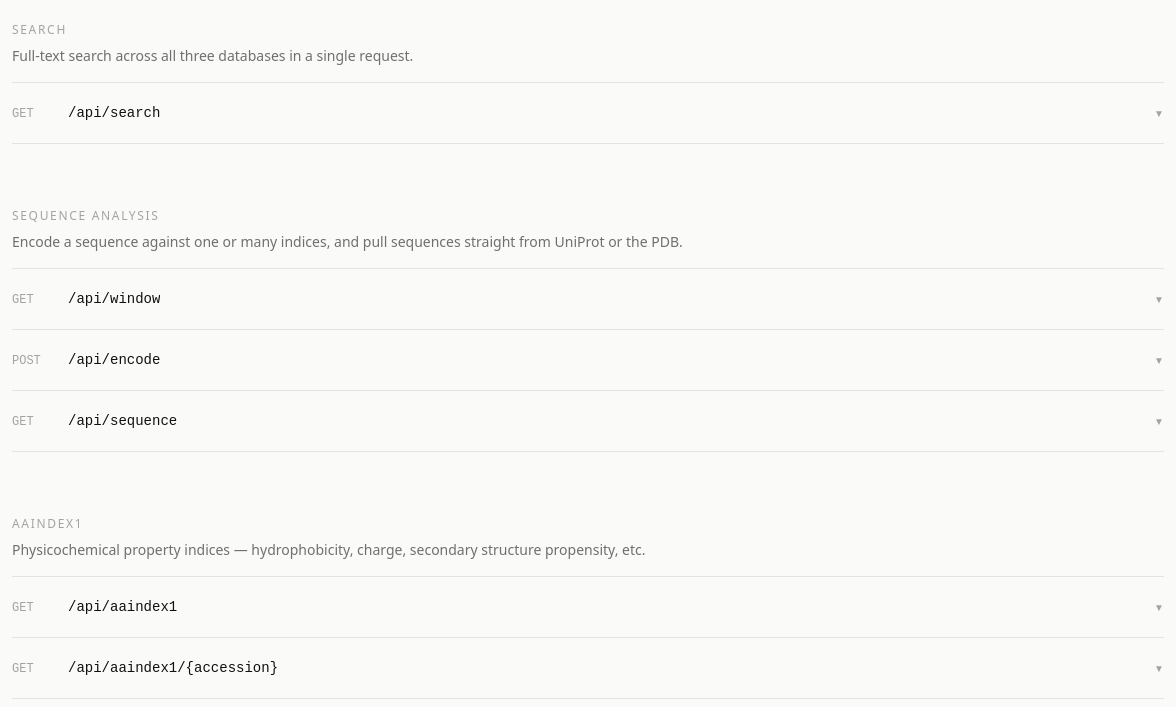
APIReference — code examples and downloads › shows the POST body in the encode example
The width and height of the screenshot is (1176, 707).
(page scrolled)
Step 1. Click the button "POST /api/encode ▼" → (114, 360), box [12,330,1164,390]
(page scrolled)
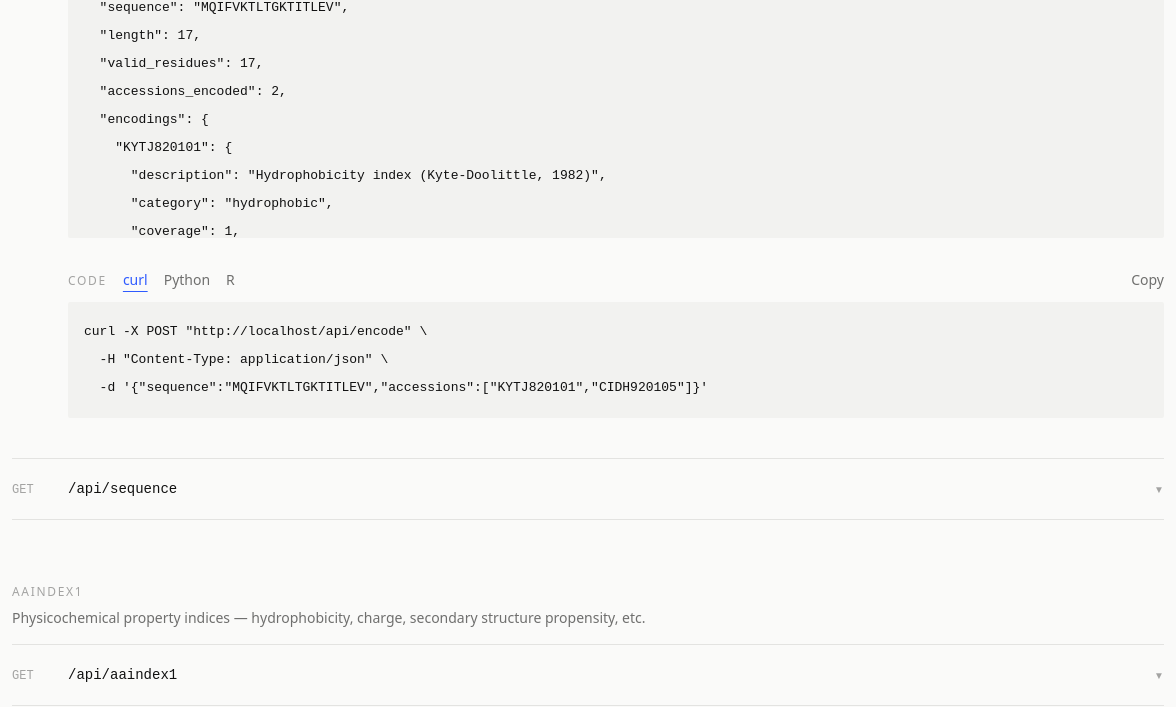
Now the text "-X POST" is shown, box [84,324,708,395]
